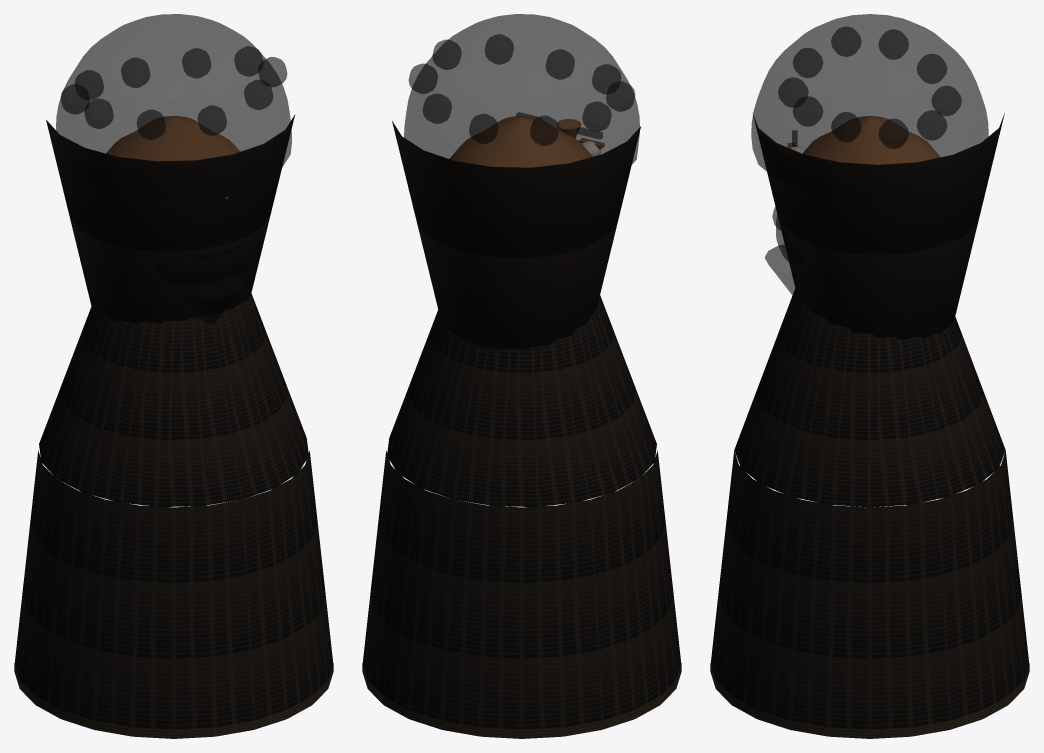
The model's file is temple_spy.glb.
3 views of the same model, side by side, from view 1: azimuth 30°, elevation 25°; view 2: azimuth 150°, elevation 25°; view 3: azimuth 270°, elevation 25° (orthographic).
Parts seen in each view (by area): view 1: Character_temple_spy_maluch, head; view 2: Character_temple_spy_maluch, head; view 3: Character_temple_spy_maluch, head.
Part boxes in pixels (box(x1,y1,x2,y2)): Character_temple_spy_maluch: box(14, 14, 333, 738); head: box(106, 116, 239, 160); Character_temple_spy_maluch: box(362, 14, 681, 738); head: box(450, 116, 592, 167); Character_temple_spy_maluch: box(710, 14, 1029, 738); head: box(802, 116, 939, 164).
Bounding box in the file's own units: 0.8057 × 1.8 × 0.8057.
Materials: 10 (6 with a texture image).
